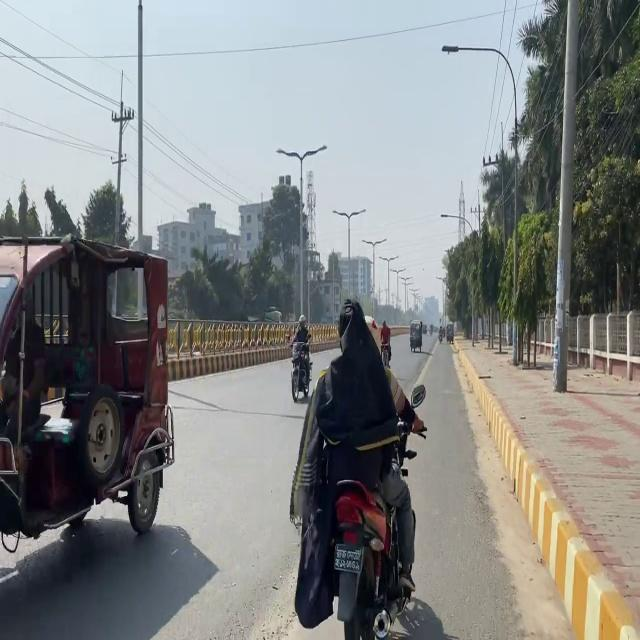Construction-barrier: (540, 476, 640, 640)
Fallen-tree: (328, 415, 427, 639), (379, 341, 391, 367)
Garbage-bin: (288, 298, 426, 636), (287, 314, 312, 389), (379, 320, 391, 361)
Light-pole: (551, 0, 580, 392)
Pothole: (451, 336, 637, 638)
Traffic-cone: (0, 232, 175, 550)
